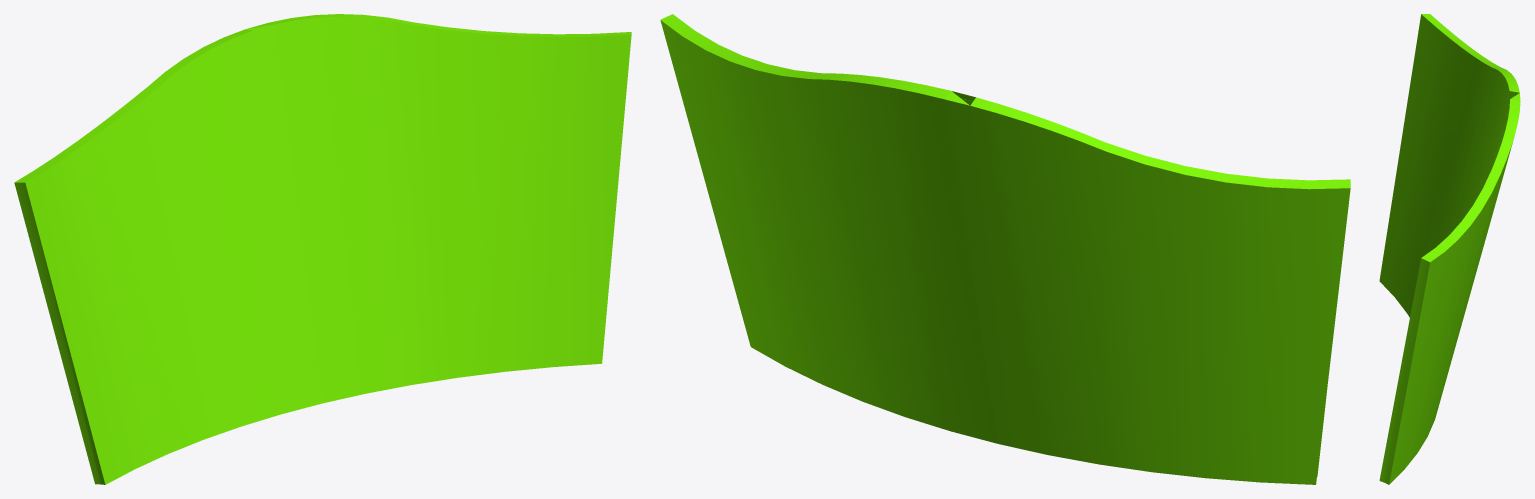
File: chair_027_01.obj
3 views of the same model, side by side, from view 1: azimuth 30°, elevation 25°; view 2: azimuth 150°, elevation 25°; view 3: azimuth 270°, elevation 25° (orthographic). The views are drawn at different scales.
Bounding box in the file's own units: 382 × 205 × 91.81.
